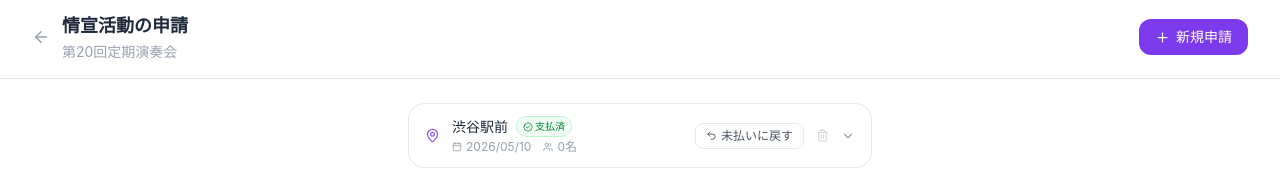
Test case: OutreachPage（支払い・取り消し操作） › 「未払いに戻す」クリック後、一覧のキャッシュがpendingに更新される
Expected: the text "渋谷駅前" is shown, top-left (452, 116), bottom-right (508, 136)
Expected: the text "支払済" is shown, top-left (516, 116), bottom-right (572, 137)
Step 1. Click the button with aria-label "渋谷駅前を未払いに戻す" → [750, 136], box top-left (695, 122), bottom-right (804, 148)
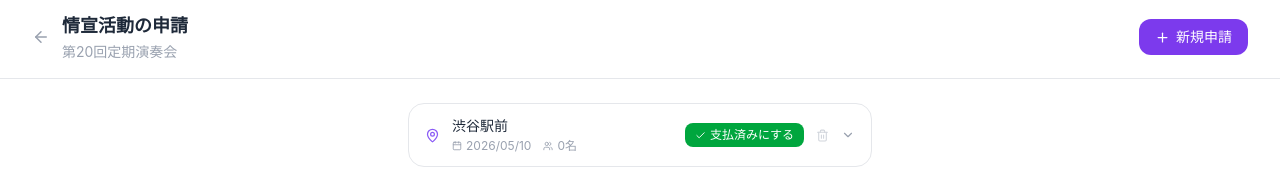
Expected: the button with aria-label "渋谷駅前を支払済みにする" is shown, top-left (685, 123), bottom-right (804, 147)
